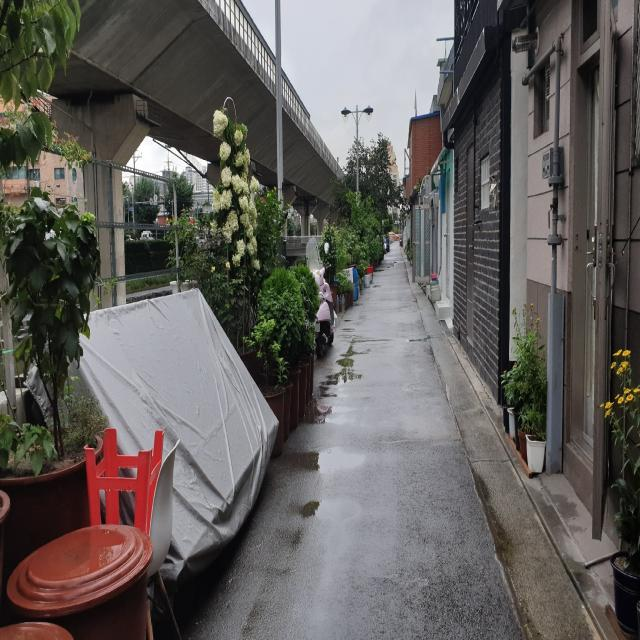motorbike: (306, 237, 334, 358)
